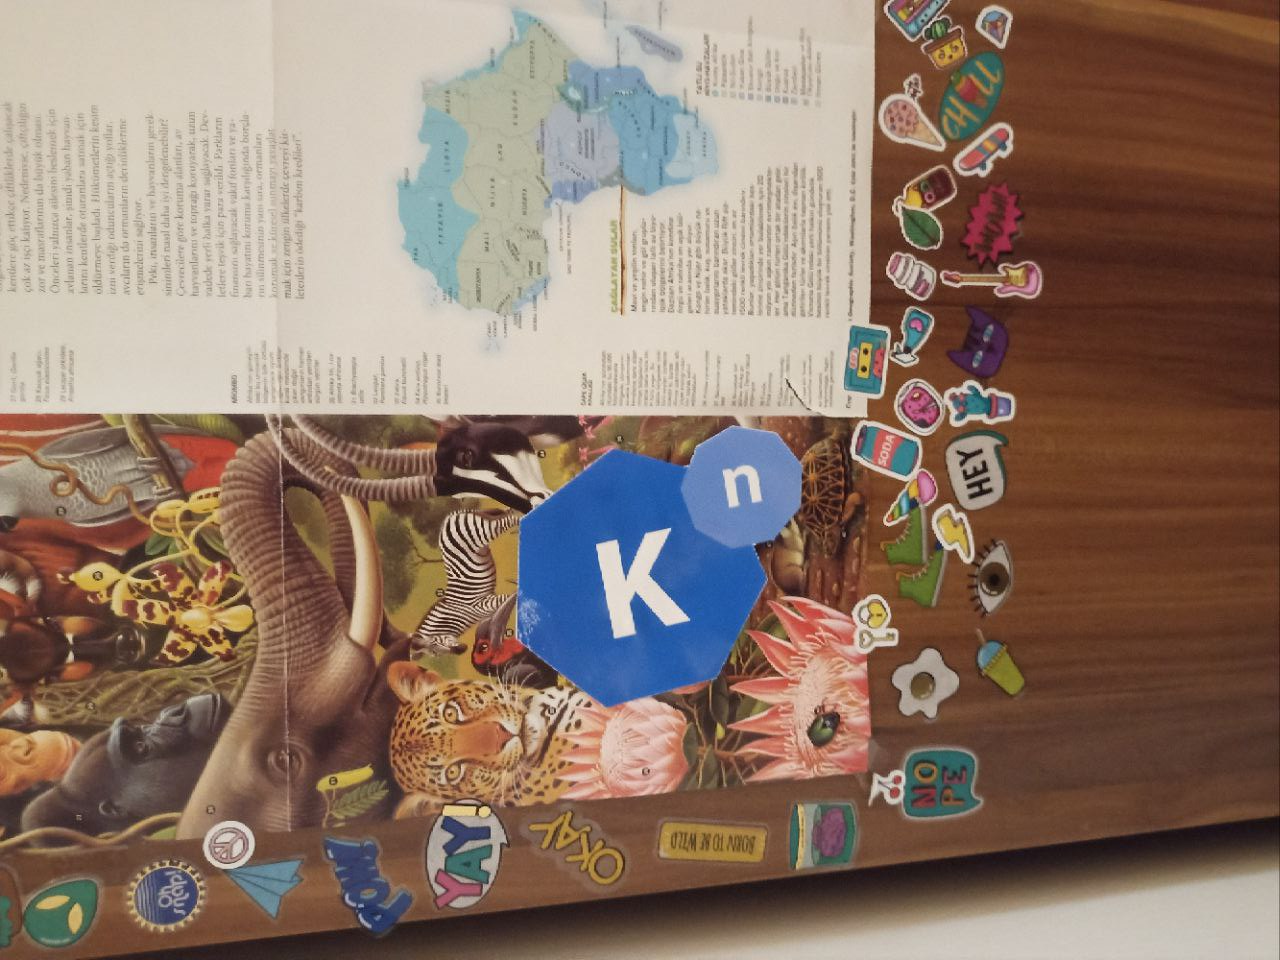knative: (518, 426, 802, 705)
